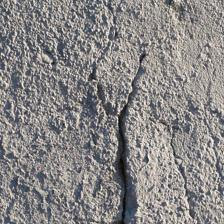Crack: (55, 27, 98, 195)
